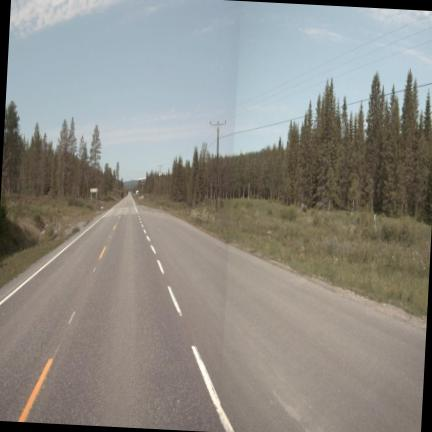Road: (0, 196, 425, 431)
